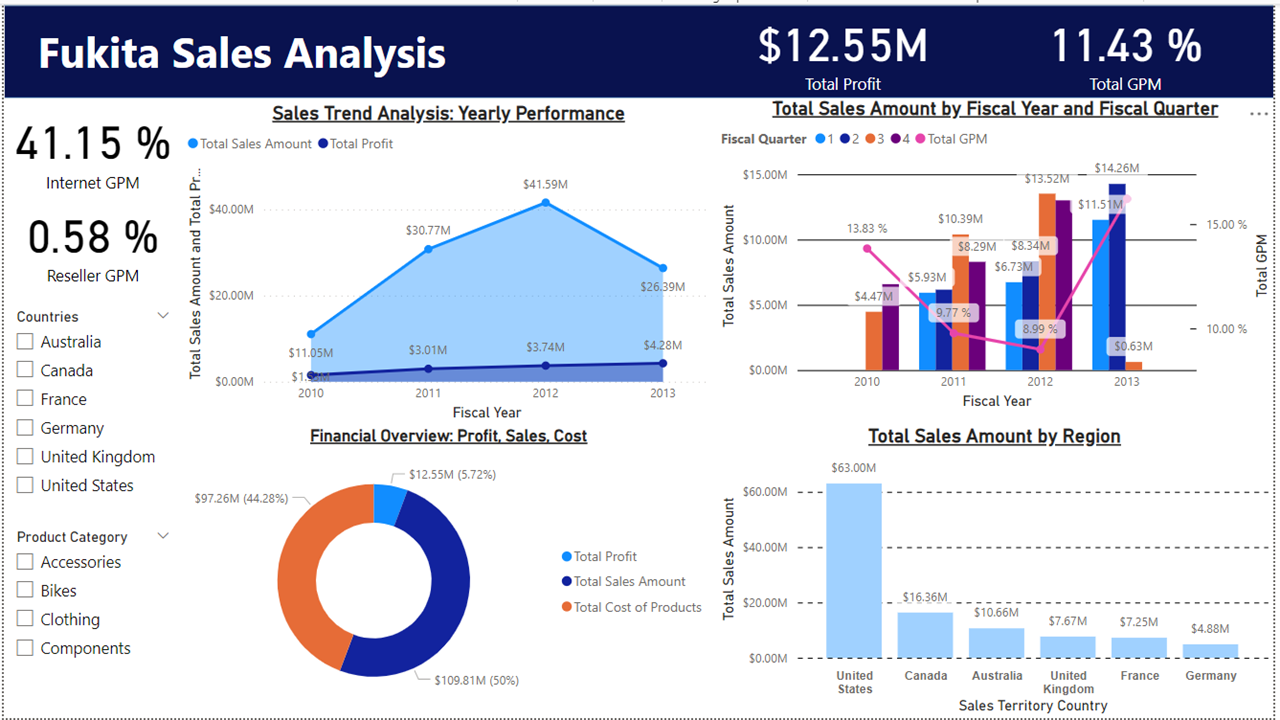

What the dashboard file says about the page in this screenshot:
{"tool":"powerbi","page":{"name":"Dashboard 1 Sales Performance Analysis","canvas":[1280,720],"ordinal":0},"visuals":[{"type":"slicer","fields":{"Values":["Dim Sales Territory.Sales Territory Country"]},"box":[0,299.1,179.7,200.2],"z":0},{"type":"areaChart","title":"Sales Trend Analysis: Yearly Performance","fields":{"Category":["Due Date.Fiscal Year"],"Y":["Measures.Total Sales Amount","Measures.Total Profit"]},"box":[180,98.6,537.1,325.7],"z":1000},{"type":"card","title":"Reseller Gross Profit Margin","fields":{"Values":["Measures.Reseller GPM"]},"box":[1055.7,0,224.3,94.3],"z":2000},{"type":"lineClusteredColumnComboChart","title":"Total Sales Amount by Fiscal Year and Fiscal Quarter","fields":{"Category":["Due Date.Fiscal Year"],"Y":["Measures.Total Sales Amount"],"Series":["Due Date.Fiscal Quarter"],"Y2":["Measures.Total Quantity"]},"box":[717.1,94.1,563.2,318.8],"z":3000},{"type":"lineClusteredColumnComboChart","title":"Top Sales Rankings Based on Different Countries","fields":{"Category":["Dim Sales Territory.Sales Territory Country"],"Y":["Measures.Total Sales Amount"]},"box":[717.6,424.5,562,295.5],"z":4000},{"type":"card","fields":{"Values":["Measures.Total GPM"]},"box":[571.4,0,205.7,98.6],"z":5000},{"type":"shape","box":[0,1.2,1280.2,94.1],"z":6000},{"type":"card","title":"Internet Gross Profit Margin","fields":{"Values":["Measures.Internet GPM"]},"box":[0,98.6,179.6,94.5],"z":7000},{"type":"card","fields":{"Values":["Measures.Total Profit"]},"box":[717.1,0,256.6,94.5],"z":8000},{"type":"card","fields":{"Values":["Measures.Reseller GPM"]},"box":[0,193.1,179.6,94.5],"z":9000},{"type":"textbox","box":[28.6,12.9,430,71.4],"z":10000},{"type":"card","fields":{"Values":["Measures.Total GPM"]},"box":[1030.4,0,201.2,94.5],"z":11000},{"type":"lineClusteredColumnComboChart","title":"Total Quantity Sold in Different Markets","fields":{"Category":["Dim Sales Territory.Sales Territory Group"],"Y":["Measures.Total Quantity"]},"box":[179.7,424.5,537.9,295.5],"z":12000},{"type":"multiRowCard","title":"Sales Amount and Product Cost Comparison","fields":{"Values":["Fact Internet Sales.Sales Amount","Fact Internet Sales.Total Product Cost","Fact Reseller Sales.Sales Amount - Fact Reseller Sales","Fact Reseller Sales.Total Product Cost - Fact Reseller Sales"]},"box":[0,508.9,179.7,211.1],"z":13000}]}

Visuals, with their boxes in screenshot pixels (x1, y1, x2, y2), scaled from the page's 1280x720 canvas onto the 1280x720 screenshot:
slicer - Dim Sales Territory.Sales Territory Country: BBox(0, 299, 180, 499)
"Sales Trend Analysis: Yearly Performance" areaChart: BBox(180, 99, 717, 424)
"Reseller Gross Profit Margin" card: BBox(1056, 0, 1279, 94)
"Total Sales Amount by Fiscal Year and Fiscal Quarter" lineClusteredColumnComboChart: BBox(717, 94, 1279, 413)
"Top Sales Rankings Based on Different Countries" lineClusteredColumnComboChart: BBox(718, 424, 1279, 719)
card - Measures.Total GPM: BBox(571, 0, 777, 99)
shape: BBox(0, 1, 1279, 95)
"Internet Gross Profit Margin" card: BBox(0, 99, 180, 193)
card - Measures.Total Profit: BBox(717, 0, 974, 94)
card - Measures.Reseller GPM: BBox(0, 193, 180, 288)
textbox: BBox(29, 13, 459, 84)
card - Measures.Total GPM: BBox(1030, 0, 1232, 94)
"Total Quantity Sold in Different Markets" lineClusteredColumnComboChart: BBox(180, 424, 718, 719)
"Sales Amount and Product Cost Comparison" multiRowCard: BBox(0, 509, 180, 719)
